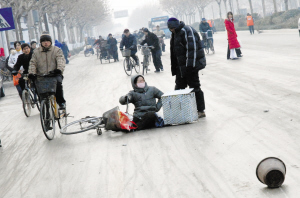10+: (4, 7, 256, 135)
down: (103, 67, 168, 139)
